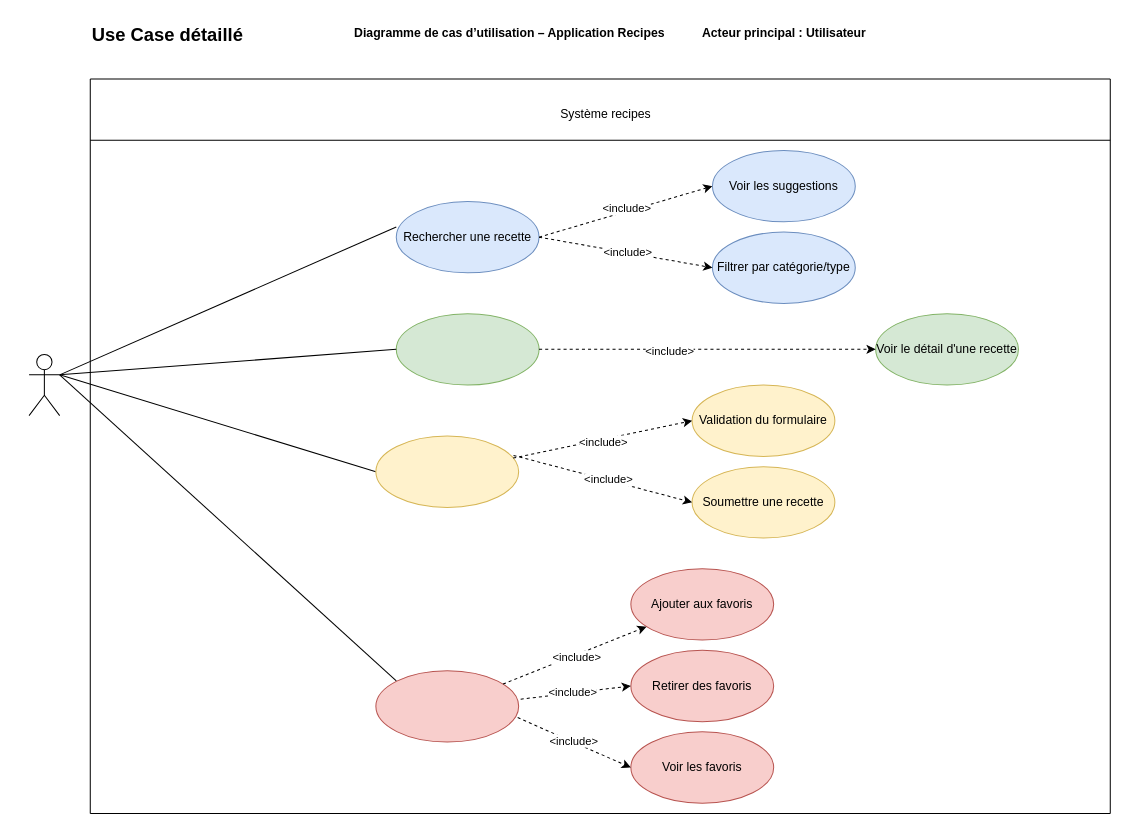
This 1129x832 diagram has some shape labels left out. Here are the shapes that lost their labels. From the top down, the box of each, then its label:
(395, 313, 539, 385): Afficher une recette
(28, 353, 60, 416): Utilisateur
(375, 435, 519, 507): Ajouter une recette
(375, 670, 519, 742): Gérer les favoris
